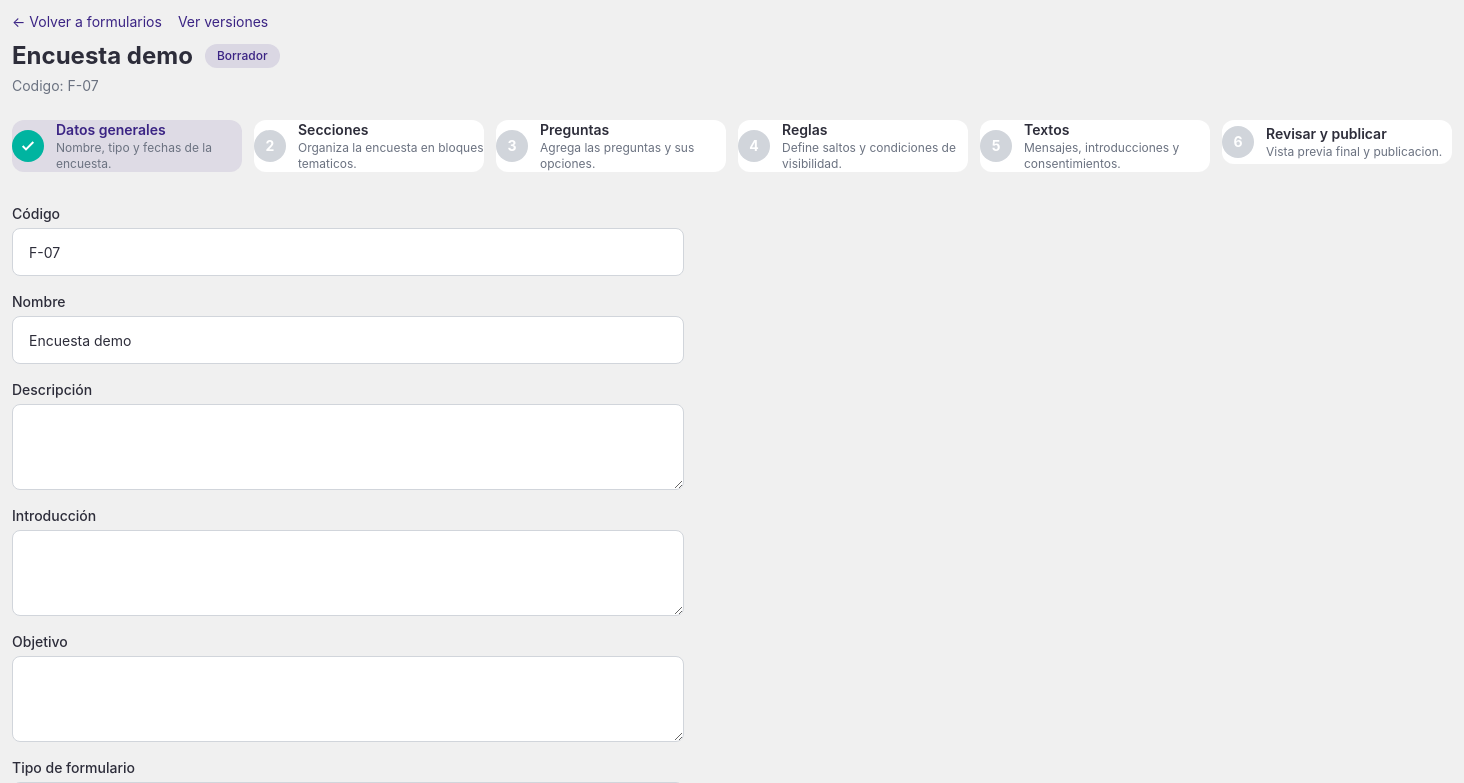
Scenario: AsistenteFormulario › orienta a crear secciones antes de agregar preguntas
The width and height of the screenshot is (1464, 783).
Expected: the heading "Encuesta demo" is shown, [12,40,193,72]
Click the button "3 Preguntas Agrega las preguntas y sus opciones." at (611, 146), box [496,120,726,172]
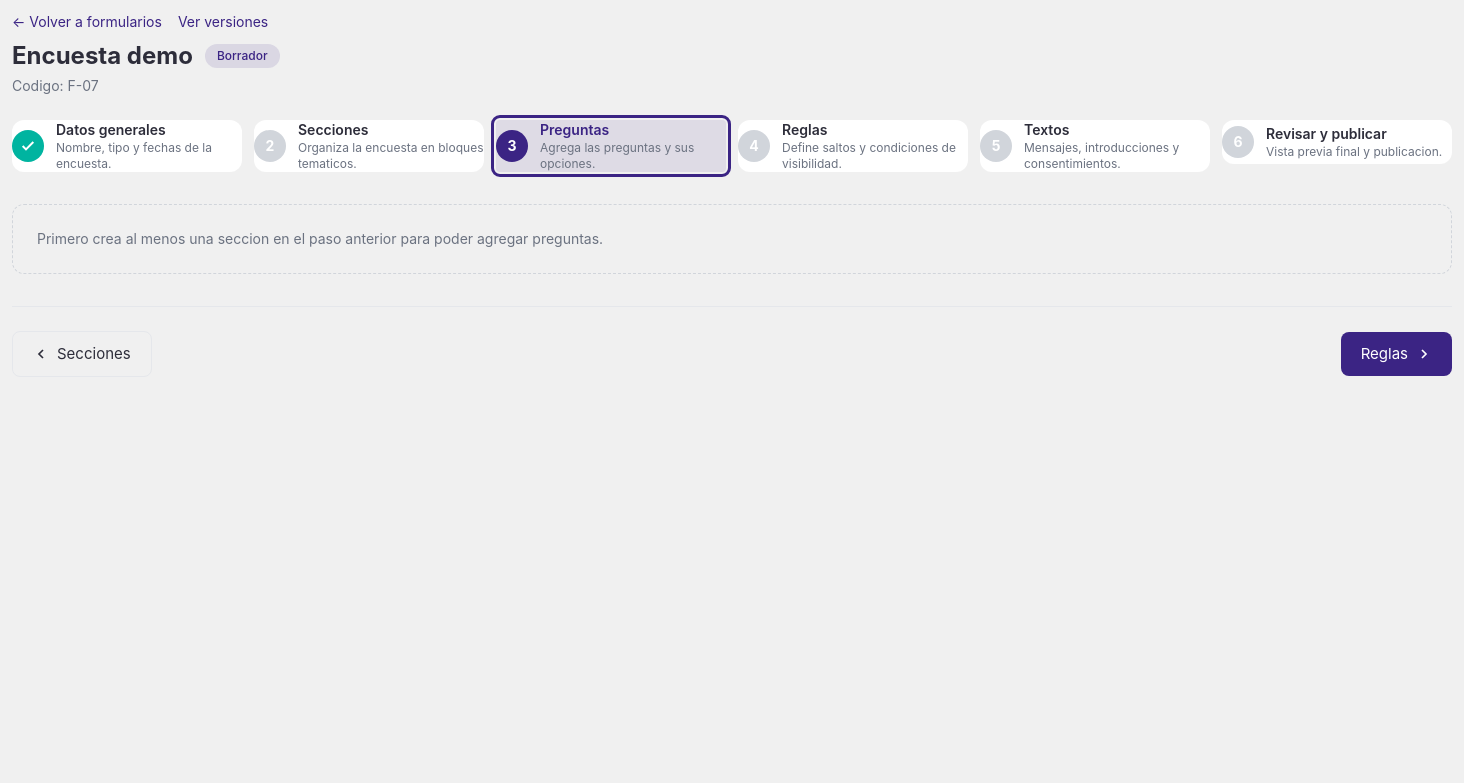
Expected: the message shows "seccion", [37,230,603,247]
